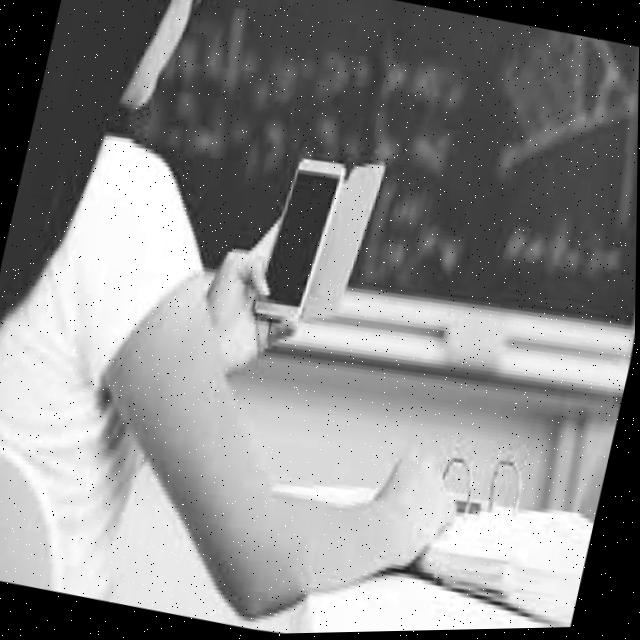phone: (245, 148, 359, 335)
